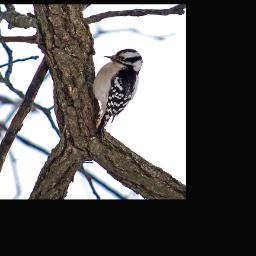Woodpecker: (80, 49, 143, 136)
